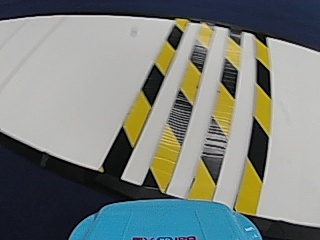bump: (100, 26, 277, 195)
